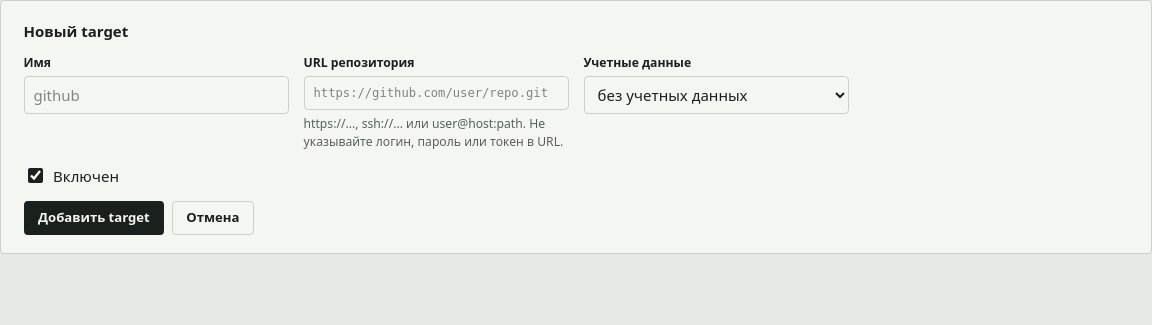
shows the server error
The image size is (1152, 325).
Type "x" into the field labelled "Имя" at x=156, y=95, box [24, 76, 288, 114]
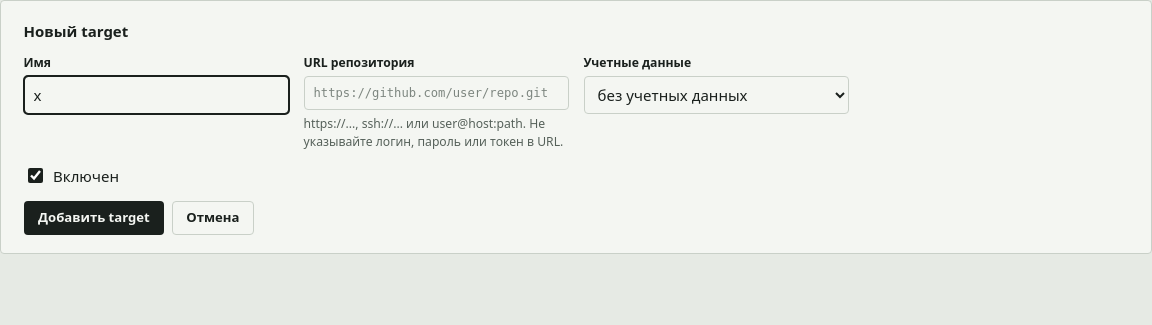
Type "https://user:pass@example.com/x.git" into the field labelled "URL репозитория" at x=436, y=93, box [304, 76, 568, 110]
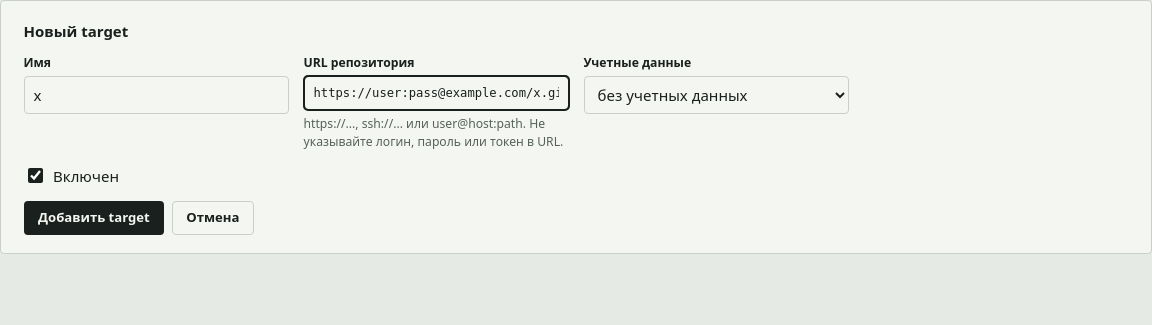
Click the button "Добавить target" at x=94, y=218, box [24, 201, 164, 234]
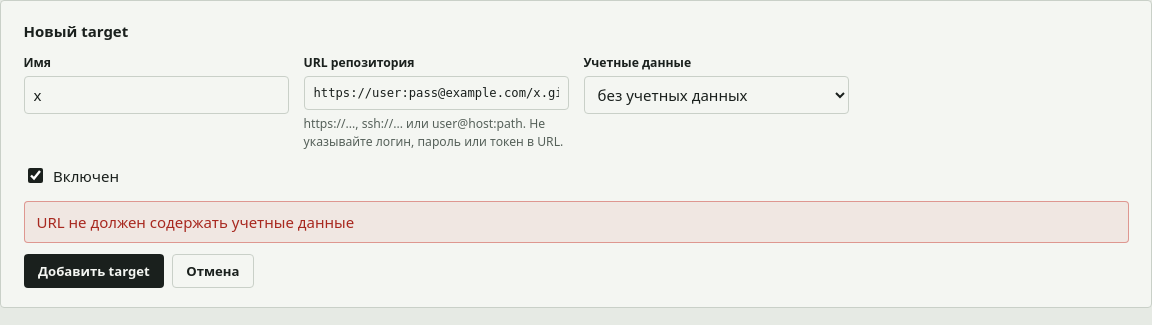
Expected: the message reads "URL не должен содержать учетные данные", [36, 212, 354, 232]
